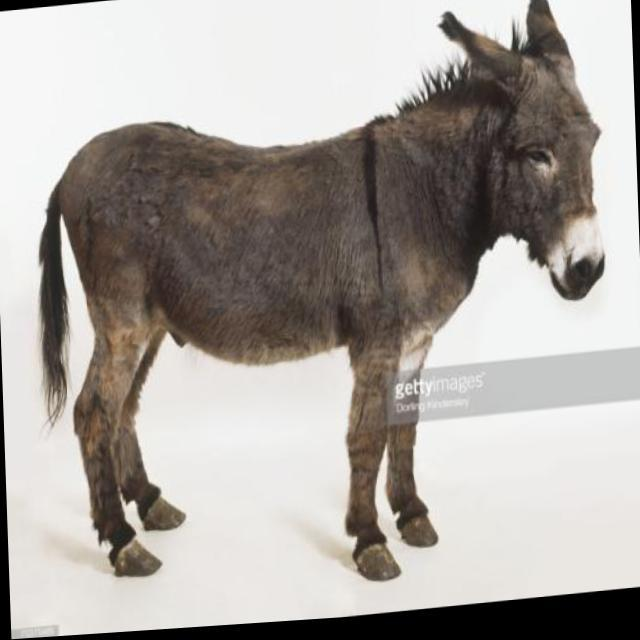Donkey: (30, 0, 615, 617)
